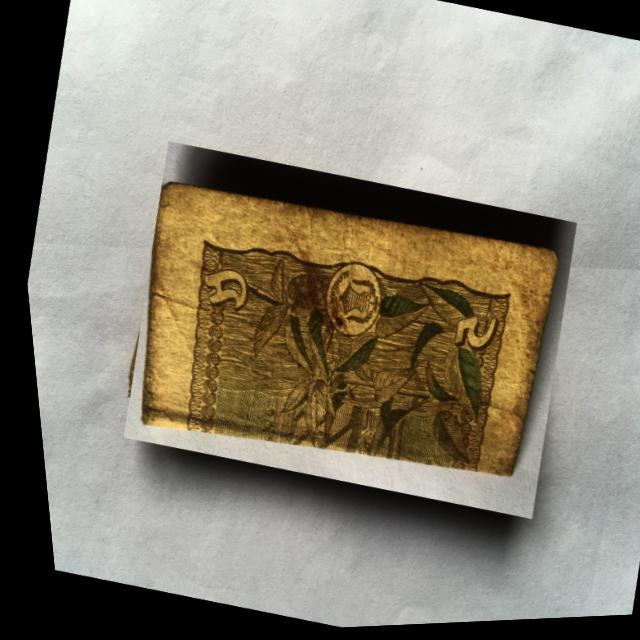Taka: (92, 128, 593, 538)
